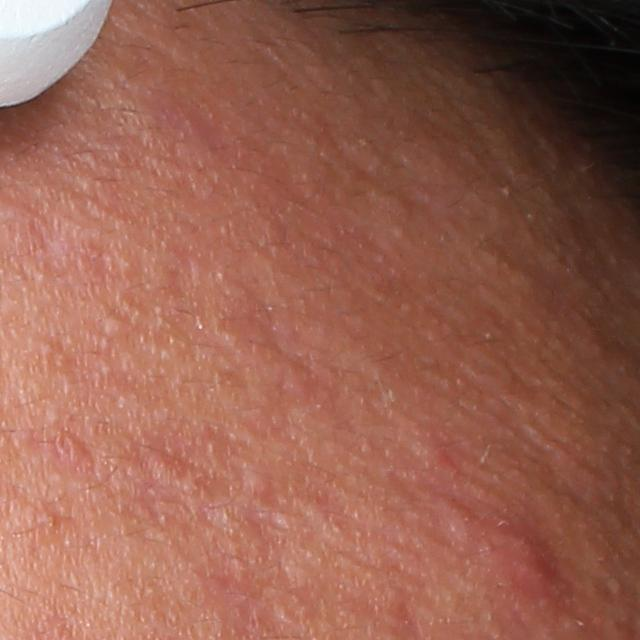comedo: (97, 312, 131, 338)
papule: (497, 515, 556, 594), (436, 495, 480, 550)
